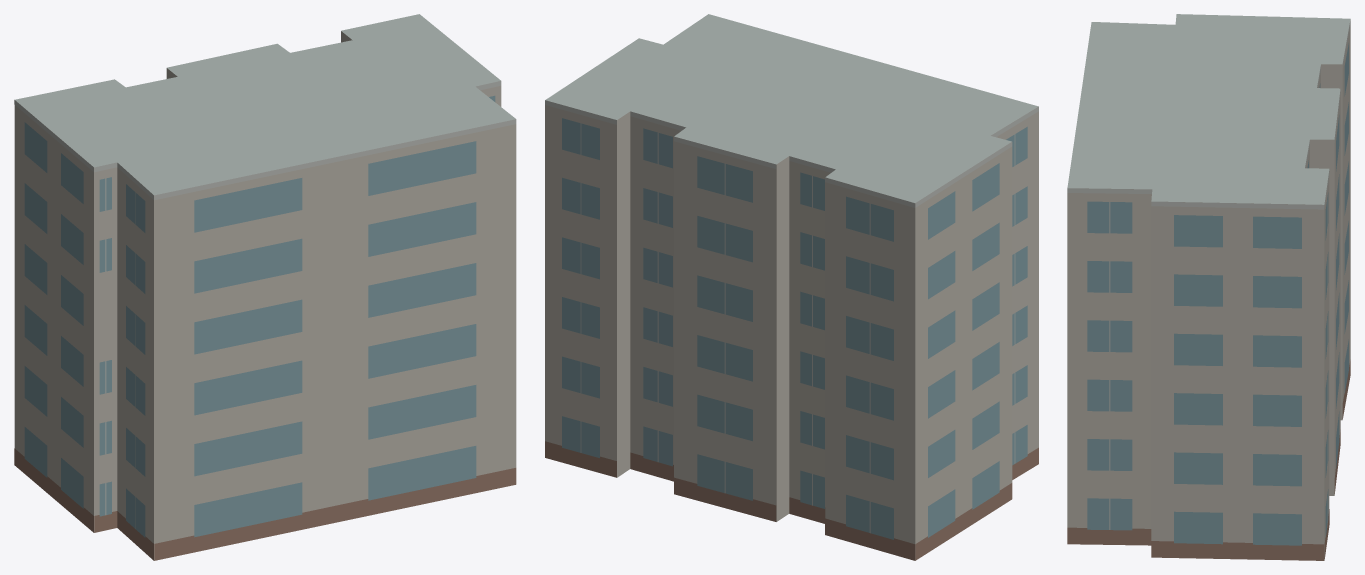
Rendered from survey-upis-32760573.glb.
The picture shows the model from 3 angles, left to right: view 1: azimuth 30°, elevation 25°; view 2: azimuth 150°, elevation 25°; view 3: azimuth 270°, elevation 25°; orthographic projection. The views are drawn at different scales.
Visible parts, largest first — view 1: survey-upis-32760573.tmp; view 2: survey-upis-32760573.tmp; view 3: survey-upis-32760573.tmp.
Boxes of the visible parts, left/top/right/bottom form: survey-upis-32760573.tmp: left=14, top=14, right=516, bottom=560; survey-upis-32760573.tmp: left=545, top=14, right=1038, bottom=560; survey-upis-32760573.tmp: left=1067, top=14, right=1350, bottom=560.
Size of the model in its own units: 20.93 by 18.2 by 13.13.
